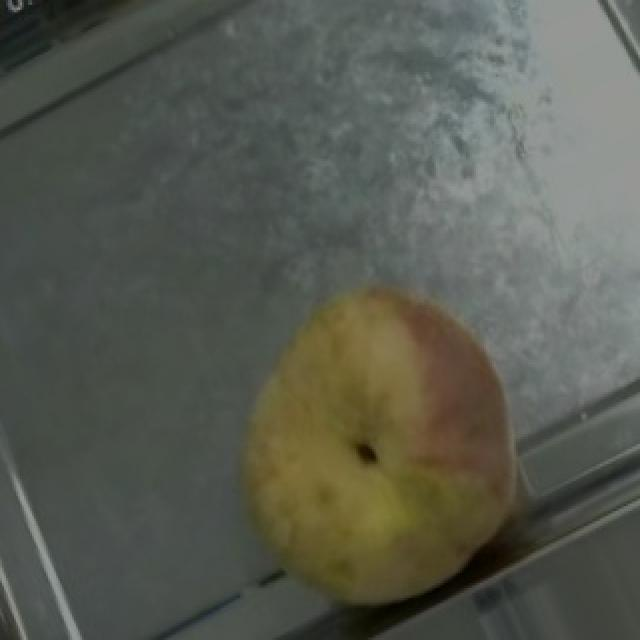Fruit: (186, 275, 500, 640)
